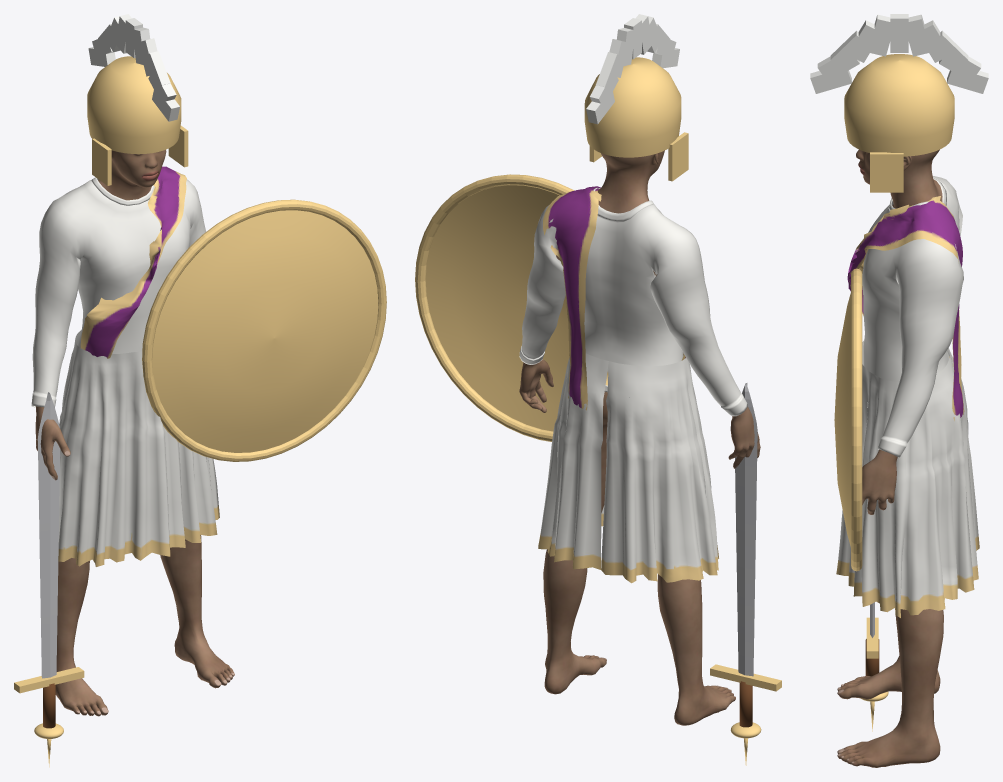
File: alexander.glb
The picture shows the model from 3 angles, left to right: view 1: azimuth 30°, elevation 25°; view 2: azimuth 150°, elevation 25°; view 3: azimuth 270°, elevation 25°; orthographic projection. The views are drawn at different scales.
Parts seen in each view (by area): view 1: A_alexander; view 2: A_alexander; view 3: A_alexander.
Boxes of the visible parts, x1,y1,x2,y2 form: A_alexander: [14, 14, 386, 767]; A_alexander: [415, 14, 781, 765]; A_alexander: [810, 14, 988, 767].
Size of the model in its own units: 1.06 by 2 by 0.4226.
Materials: 15 (8 with a texture image).
